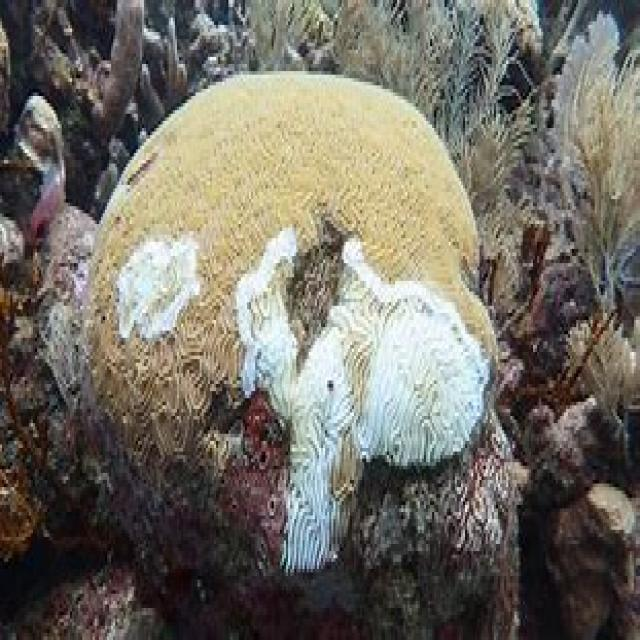Coral: (78, 72, 498, 575)
